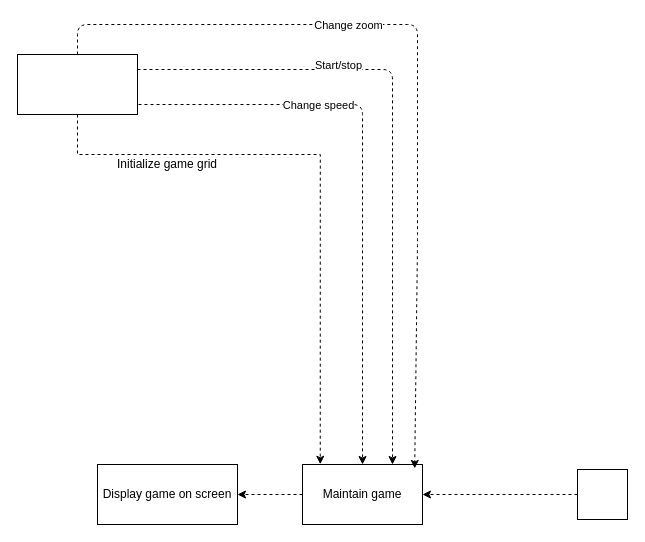
Image size: 645x542. Some labels were removed from this diagram. Here are the shapes that lost their labels. From the top down, the centre of each, then its label:
At pixel 77 84: "User input".
At pixel 602 494: "Startup".
